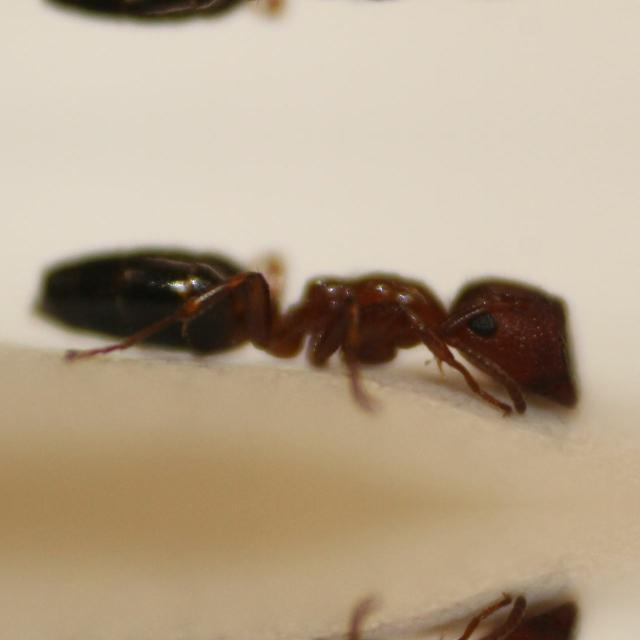Colobopsis: (14, 210, 612, 418), (13, 0, 610, 60), (13, 590, 610, 640)
